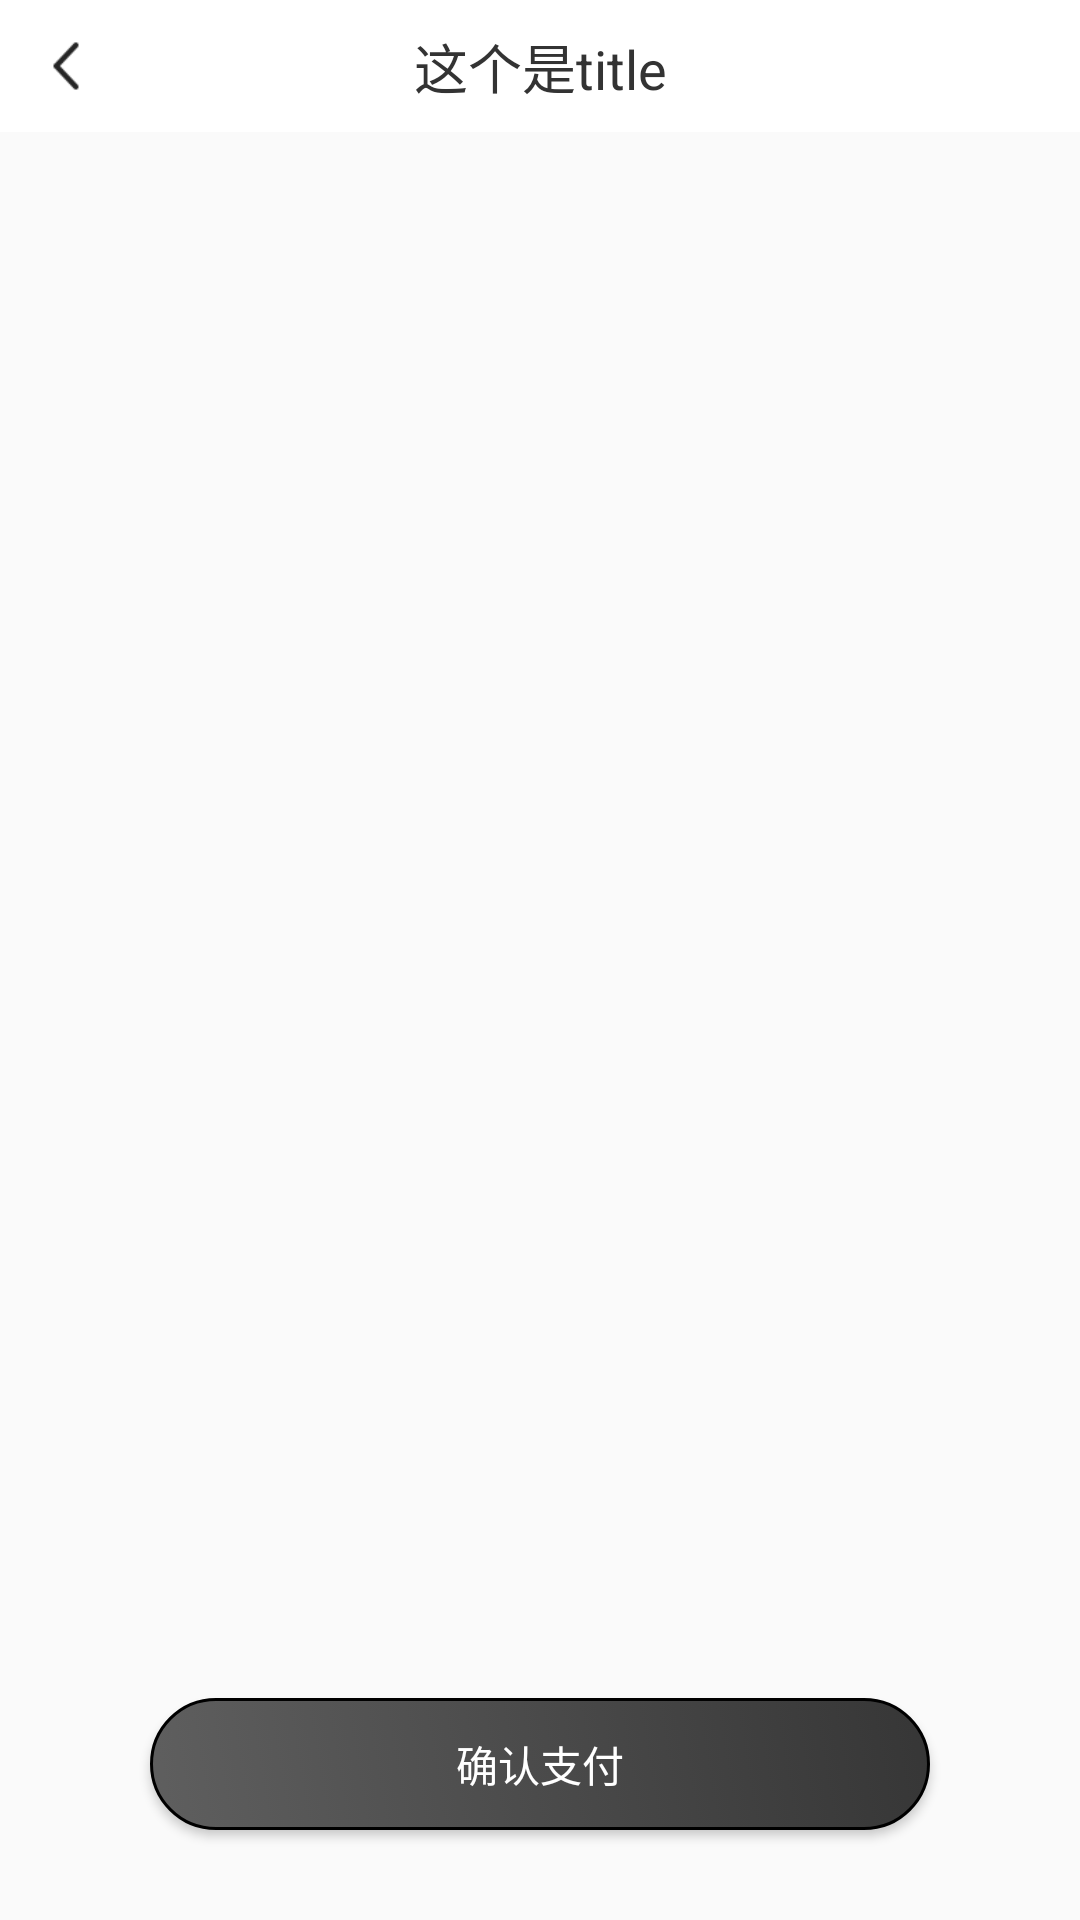

Icons on this 1080 × 1920 Android screen, each with its box as region(x1, y1, x2, y2):
back: region(53, 42, 79, 90)
